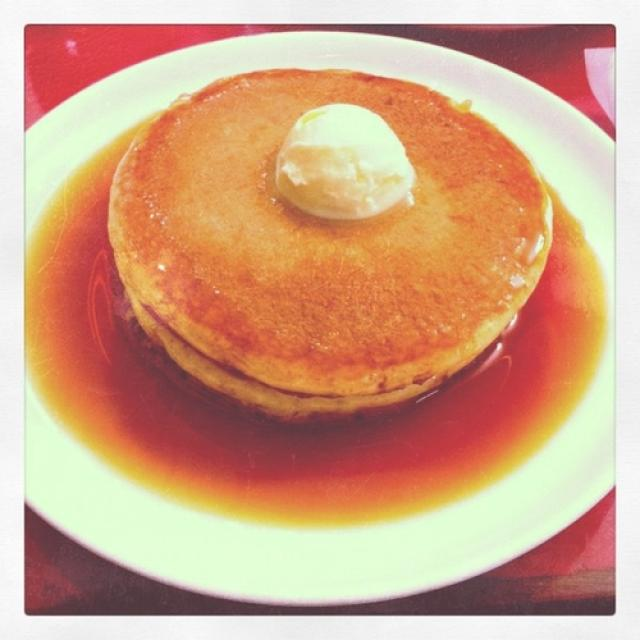蛋糕甜品: (37, 48, 616, 602)
